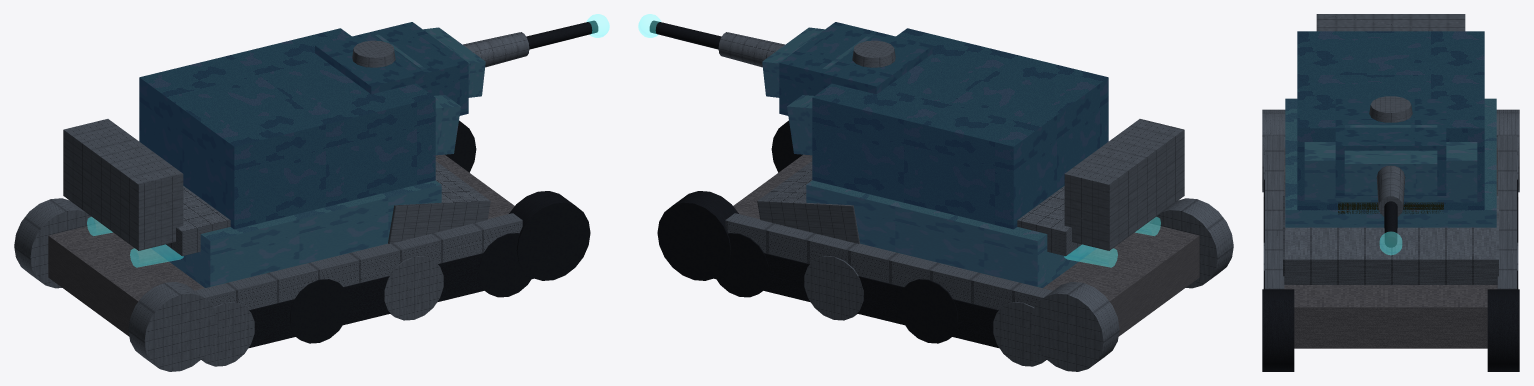
File: apc.glb
3 views of the same model, side by side, from view 1: azimuth 30°, elevation 25°; view 2: azimuth 150°, elevation 25°; view 3: azimuth 270°, elevation 25° (orthographic).
Visible parts, largest first — view 1: vehicle_troop_compartment, vehicle_upper_hull, vehicle_rear_door, vehicle_hull_base, vehicle_track_guard_right, vehicle_turret_body, vehicle_end_wheel_1_0, vehicle_end_wheel_1_1, vehicle_track_right, vehicle_glacis, vehicle_end_wheel_0_0, vehicle_road_wheel_1_1 (+11 smaller); view 2: vehicle_troop_compartment, vehicle_upper_hull, vehicle_rear_door, vehicle_hull_base, vehicle_track_guard_left, vehicle_turret_body, vehicle_end_wheel_0_0, vehicle_end_wheel_0_1, vehicle_track_left, vehicle_glacis, vehicle_end_wheel_1_0, vehicle_road_wheel_0_1 (+11 smaller); view 3: vehicle_troop_compartment, vehicle_hull_base, vehicle_glacis, vehicle_upper_hull, vehicle_turret_body, vehicle_troop_front, vehicle_turret_cheek, vehicle_track_guard_left, vehicle_track_guard_right, vehicle_end_wheel_0_1, vehicle_end_wheel_1_1, vehicle_rear_door (+7 smaller).
Part boxes in pixels (box(x1,y1,x2,y2)): vehicle_troop_compartment: box(139, 28, 435, 229); vehicle_upper_hull: box(151, 180, 441, 287); vehicle_rear_door: box(63, 119, 183, 250); vehicle_hull_base: box(48, 154, 514, 336); vehicle_track_guard_right: box(195, 213, 522, 310); vehicle_turret_body: box(315, 22, 468, 115); vehicle_end_wheel_1_0: box(128, 282, 217, 371); vehicle_end_wheel_1_1: box(509, 191, 590, 280); vehicle_track_right: box(201, 253, 533, 359); vehicle_glacis: box(388, 161, 490, 243); vehicle_end_wheel_0_0: box(14, 198, 97, 288); vehicle_road_wheel_1_1: box(290, 279, 349, 343); vehicle_troop_compartment: box(812, 28, 1108, 229); vehicle_upper_hull: box(806, 180, 1096, 287); vehicle_rear_door: box(1064, 119, 1184, 250); vehicle_hull_base: box(733, 154, 1199, 336); vehicle_track_guard_left: box(725, 213, 1052, 310); vehicle_turret_body: box(779, 22, 932, 115); vehicle_end_wheel_0_0: box(1030, 282, 1119, 371); vehicle_end_wheel_0_1: box(657, 191, 738, 280); vehicle_track_left: box(714, 253, 1046, 359); vehicle_glacis: box(757, 161, 859, 243); vehicle_end_wheel_1_0: box(1150, 198, 1233, 288); vehicle_road_wheel_0_1: box(898, 279, 957, 343); vehicle_troop_compartment: box(1297, 31, 1484, 210); vehicle_hull_base: box(1284, 148, 1497, 348); vehicle_glacis: box(1283, 196, 1498, 284); vehicle_upper_hull: box(1285, 98, 1496, 227); vehicle_turret_body: box(1335, 99, 1446, 195); vehicle_troop_front: box(1304, 142, 1477, 202); vehicle_turret_cheek: box(1344, 125, 1437, 195); vehicle_track_guard_left: box(1497, 135, 1516, 289); vehicle_track_guard_right: box(1265, 135, 1284, 289); vehicle_end_wheel_0_1: box(1487, 289, 1519, 371); vehicle_end_wheel_1_1: box(1262, 289, 1294, 371); vehicle_rear_door: box(1316, 14, 1465, 31).
Size of the model in its own units: 65.25 by 25.64 by 27.85.
7 materials, 6 textured.
